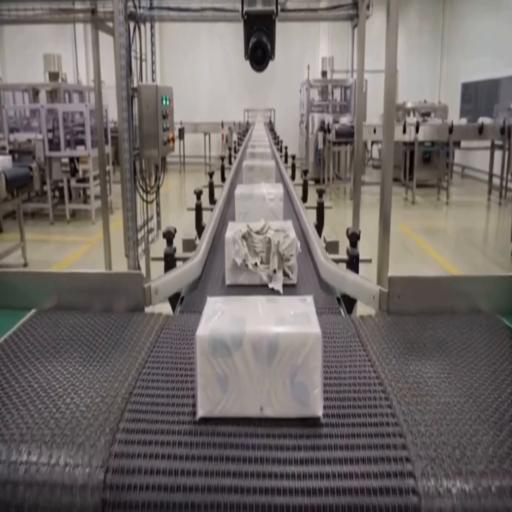defective: (196, 293, 322, 420), (224, 218, 299, 288)
good: (234, 181, 283, 224), (242, 157, 278, 186), (246, 123, 274, 150), (244, 148, 273, 166)
